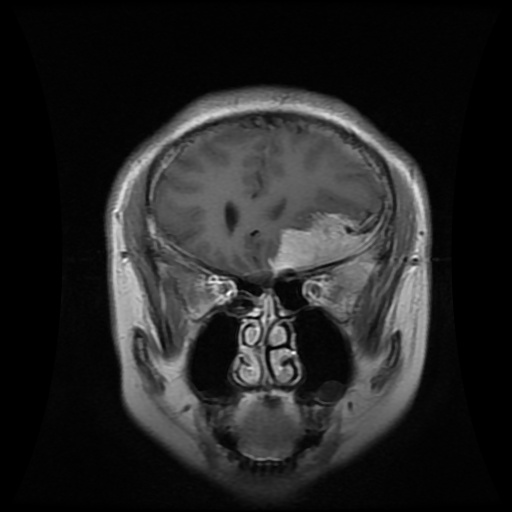meningioma: (269, 212, 380, 272)
